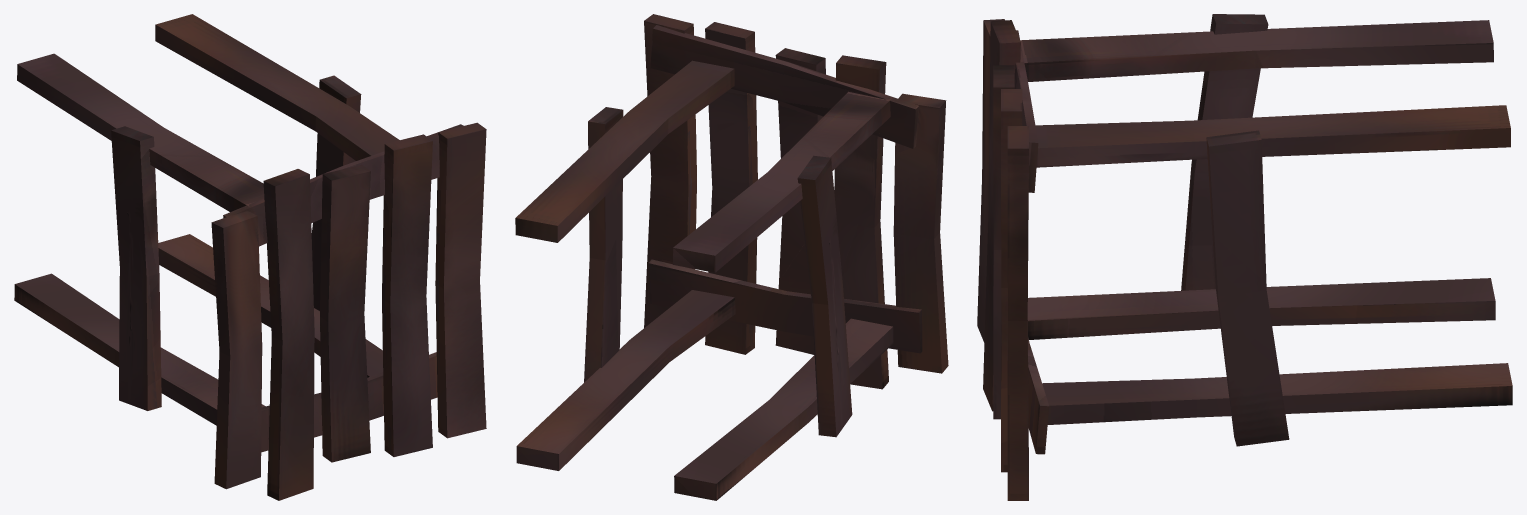
File: Table_ver1(a).fbx
3 views of the same model, side by side, from view 1: azimuth 30°, elevation 25°; view 2: azimuth 150°, elevation 25°; view 3: azimuth 270°, elevation 25° (orthographic). The views are drawn at different scales.
Visible parts, largest first — view 1: Cube.012; view 2: Cube.012; view 3: Cube.012.
Part boxes in pixels (<box>): Cube.012: <box>14,14,486,500</box>; Cube.012: <box>515,14,948,500</box>; Cube.012: <box>977,14,1512,500</box>.
Bounding box in the file's own units: 213 × 232 × 303.
